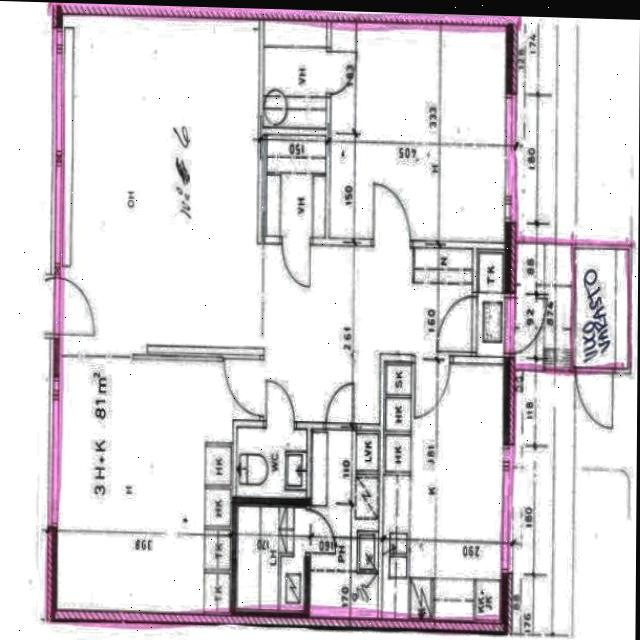room: (330, 21, 506, 241), (382, 361, 503, 622), (514, 243, 629, 368), (311, 430, 380, 617), (237, 505, 305, 609), (264, 20, 326, 127), (267, 135, 326, 236), (237, 428, 307, 497), (477, 249, 504, 356)
